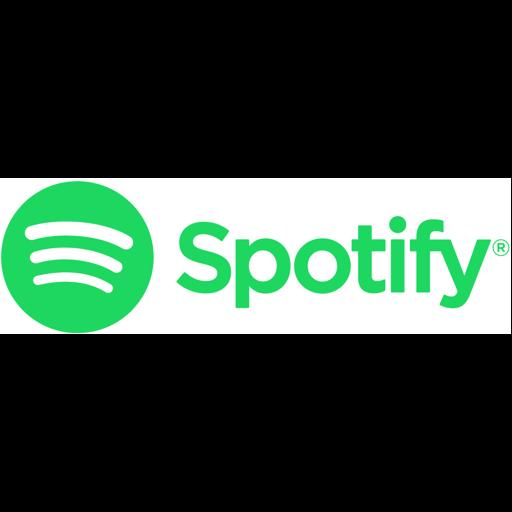Spotify: (0, 178, 511, 334)
